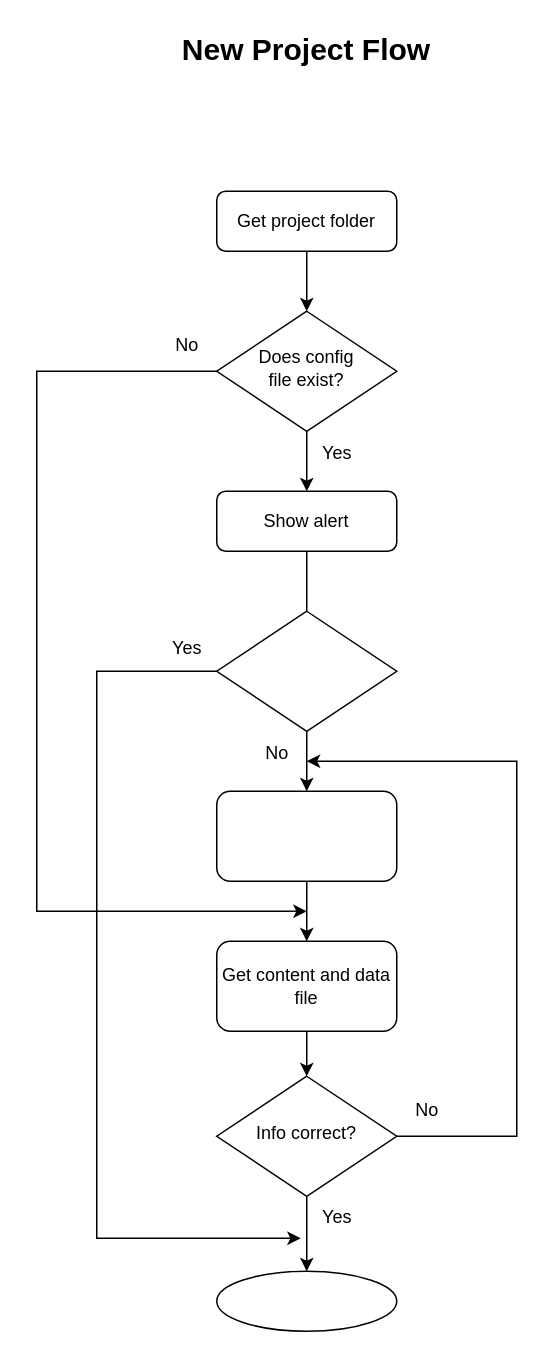
The diagram is 555 pixels wide and 1358 high, and some of its shapes have lost their labels. Each missing label, with the centre of its shape:
"Delete config file and clear local storage" belongs at [306,835].
"Open project" belongs at [306,1300].
"Use config file?" belongs at [306,670].
